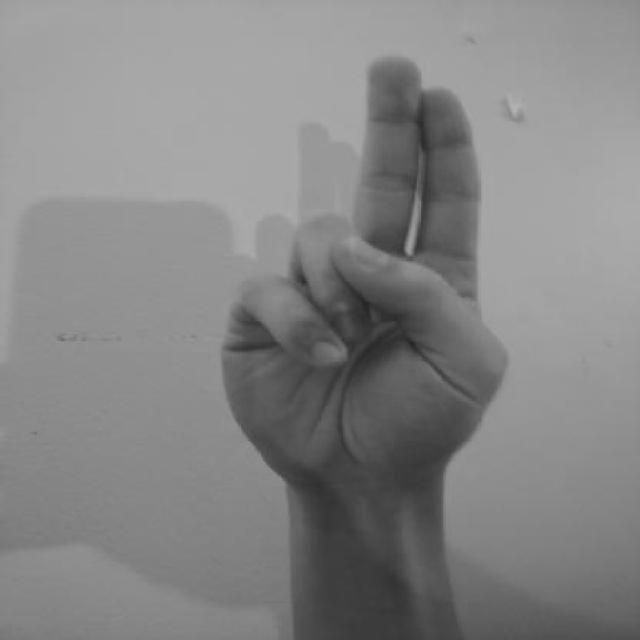U: (213, 47, 518, 482)
